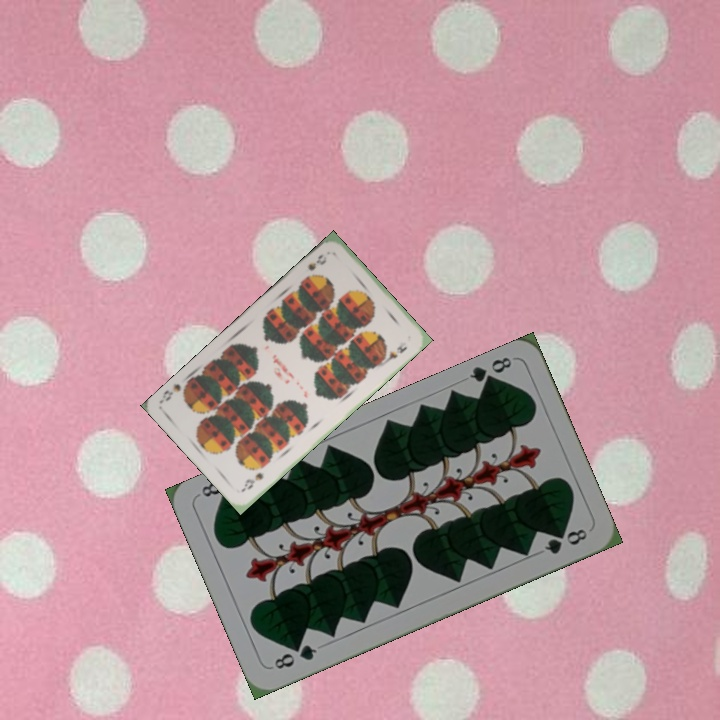G8: (465, 352, 515, 390), (270, 640, 320, 672)
S9: (301, 250, 329, 282), (238, 468, 266, 493)
